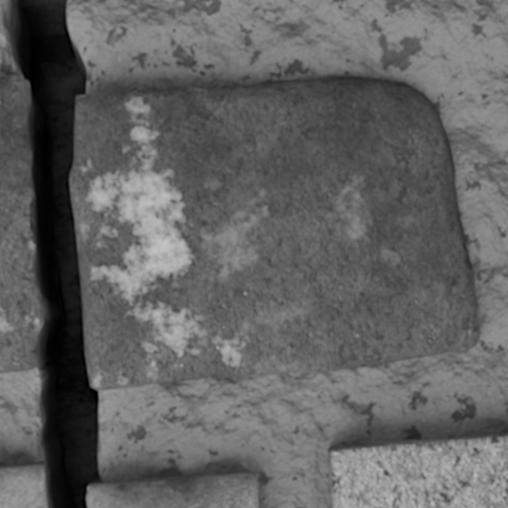brick: (328, 433, 507, 507)
broken_brick: (71, 75, 480, 390), (0, 74, 41, 373), (88, 470, 259, 507), (0, 462, 45, 507)
crack: (2, 0, 105, 507)
